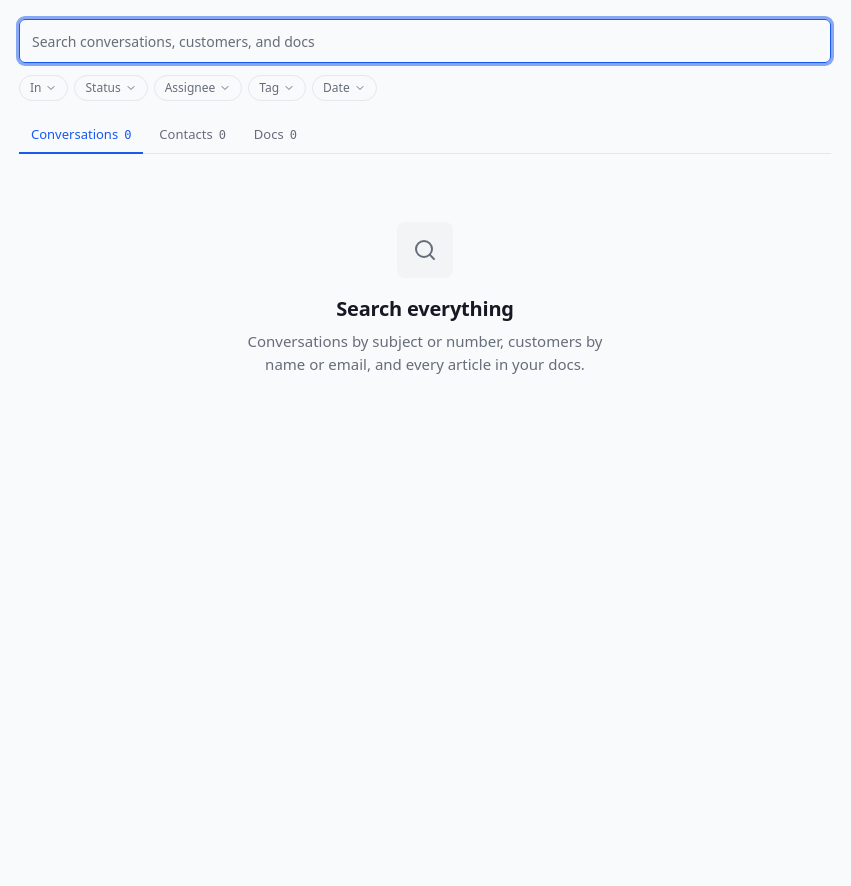
Test: global search › narrows the results with a filter chip
This screenshot has width=851, height=886.
Type "billing" into the field labelled "Search" at (425, 41), box [19,19,831,63]
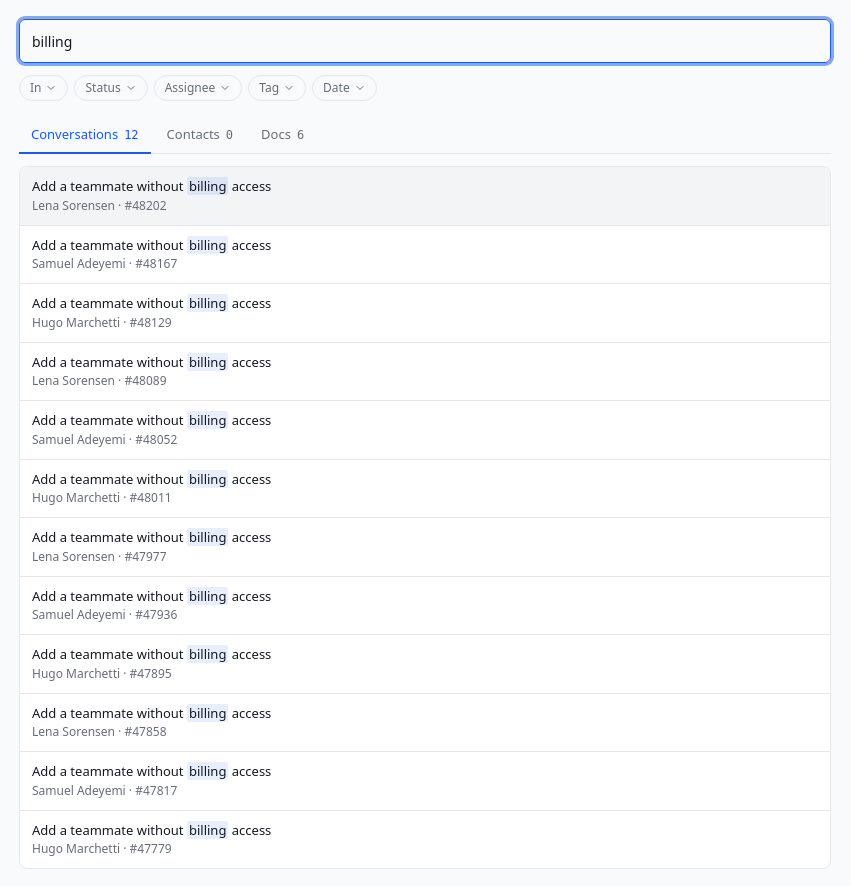
expect the list named "search results" is shown: met
Click the button "Status" at (111, 88), box [74,75,148,101]
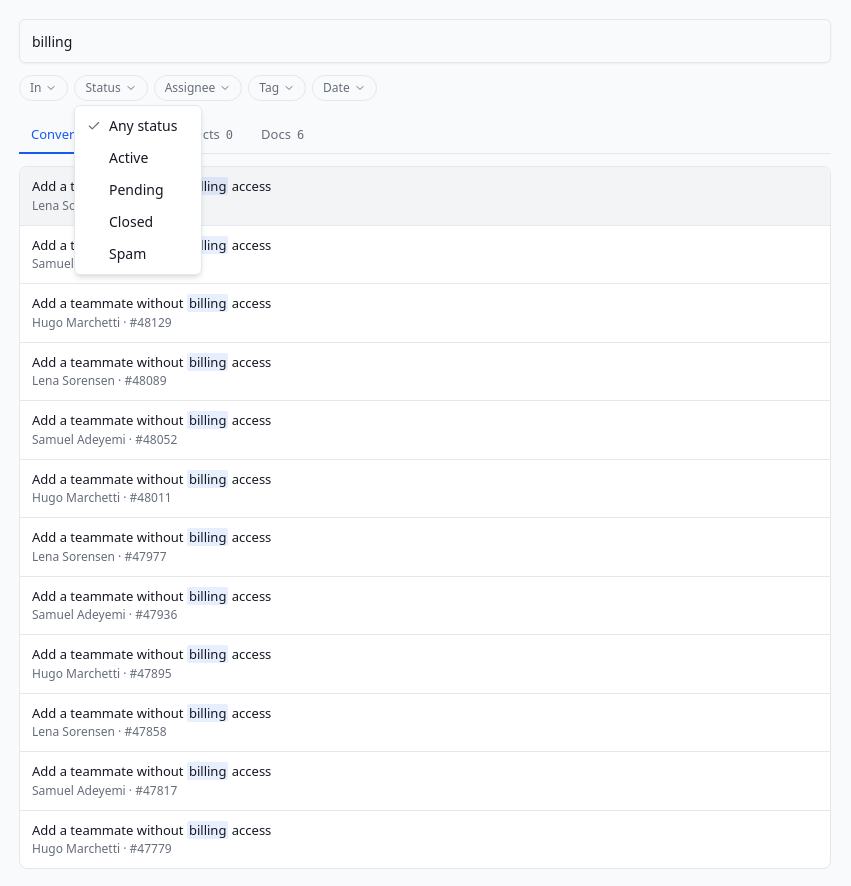
Click the menu item "Closed" at (131, 222), box [109,212,153,231]
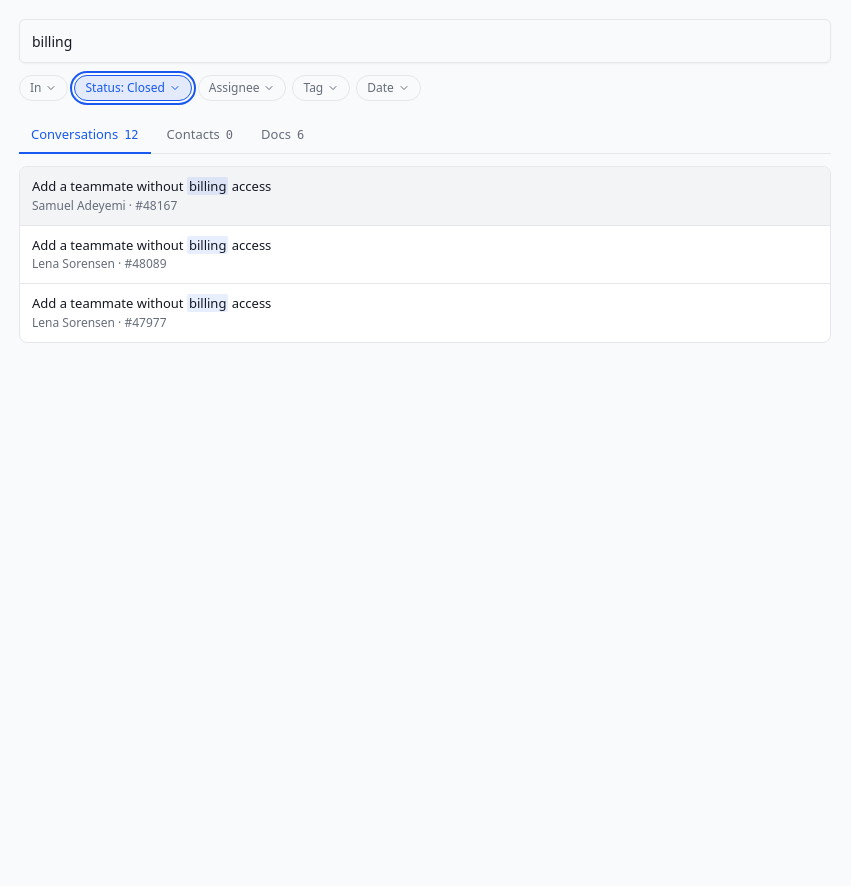
expect the button "Status: Closed" is shown: met, box [74,75,192,101]
